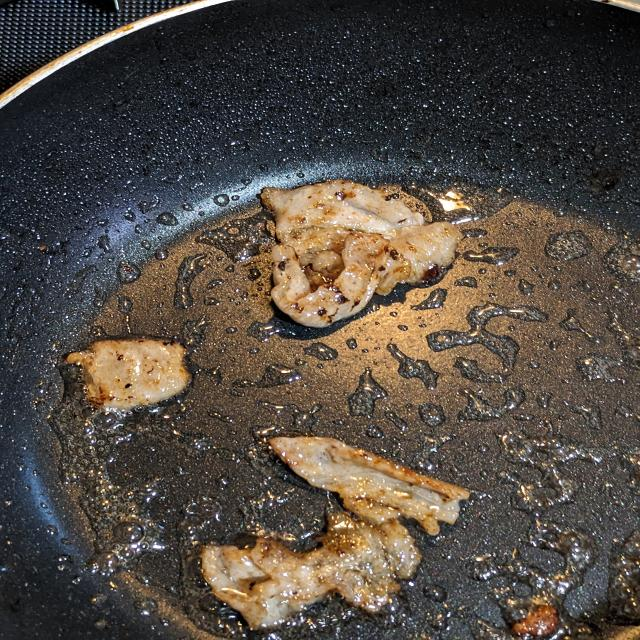OK cooked pork,: (251, 172, 476, 342), (191, 500, 432, 640), (261, 433, 489, 546), (56, 329, 205, 416)
